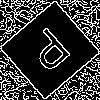P: (24, 25, 79, 81)
